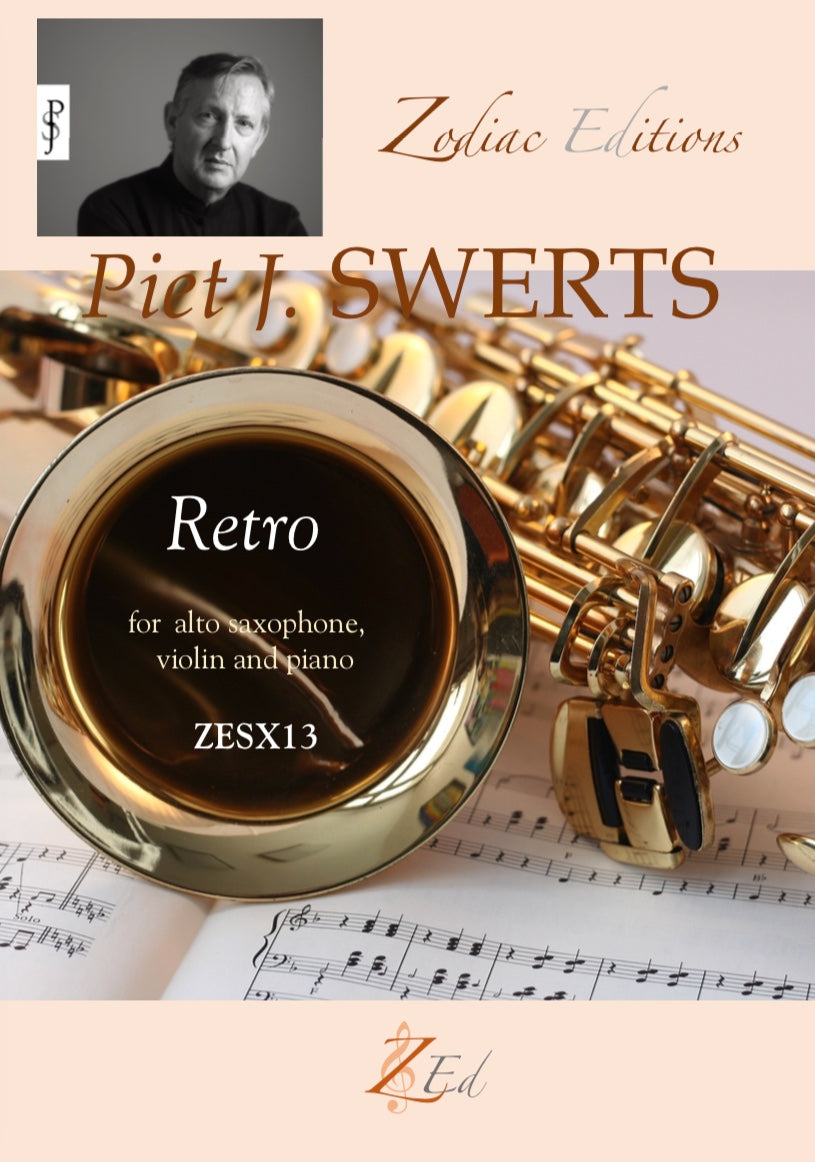Saxophone: (5, 257, 815, 943)
